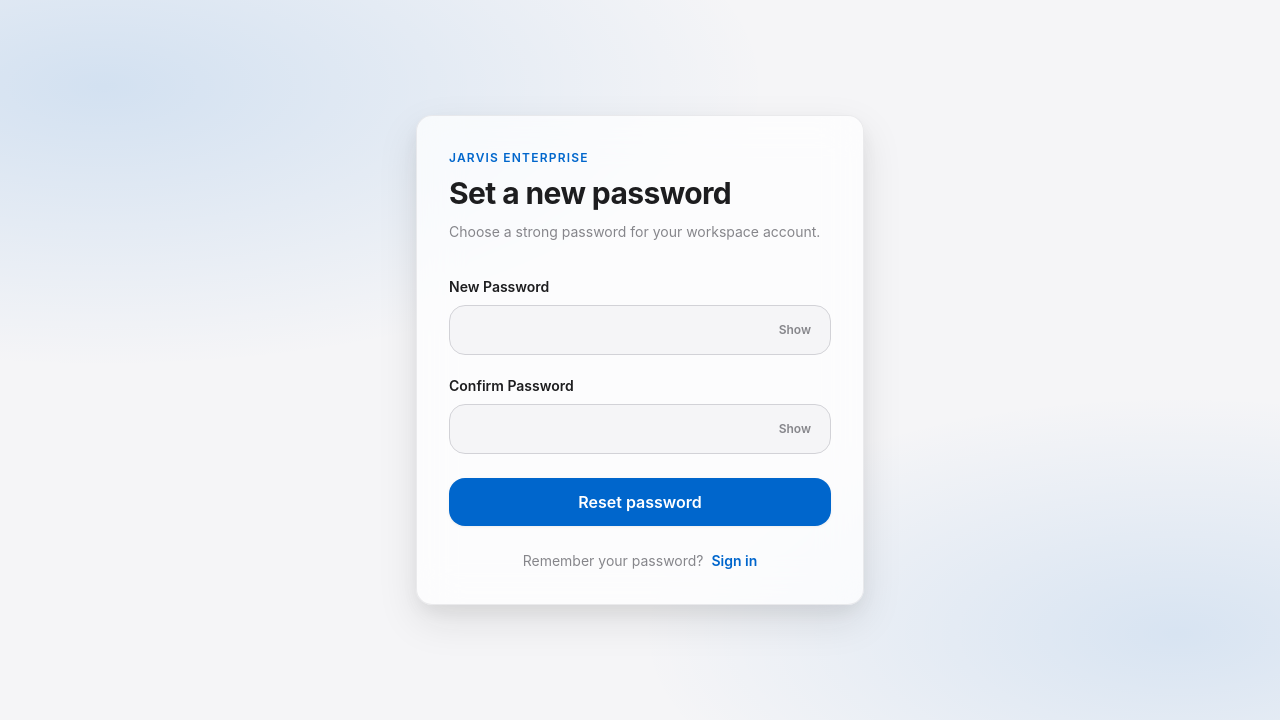
Test: ResetPasswordComponent › shows validation messages for empty fields
Click the submit button. click: (640, 502)
box: [449,478,831,526]
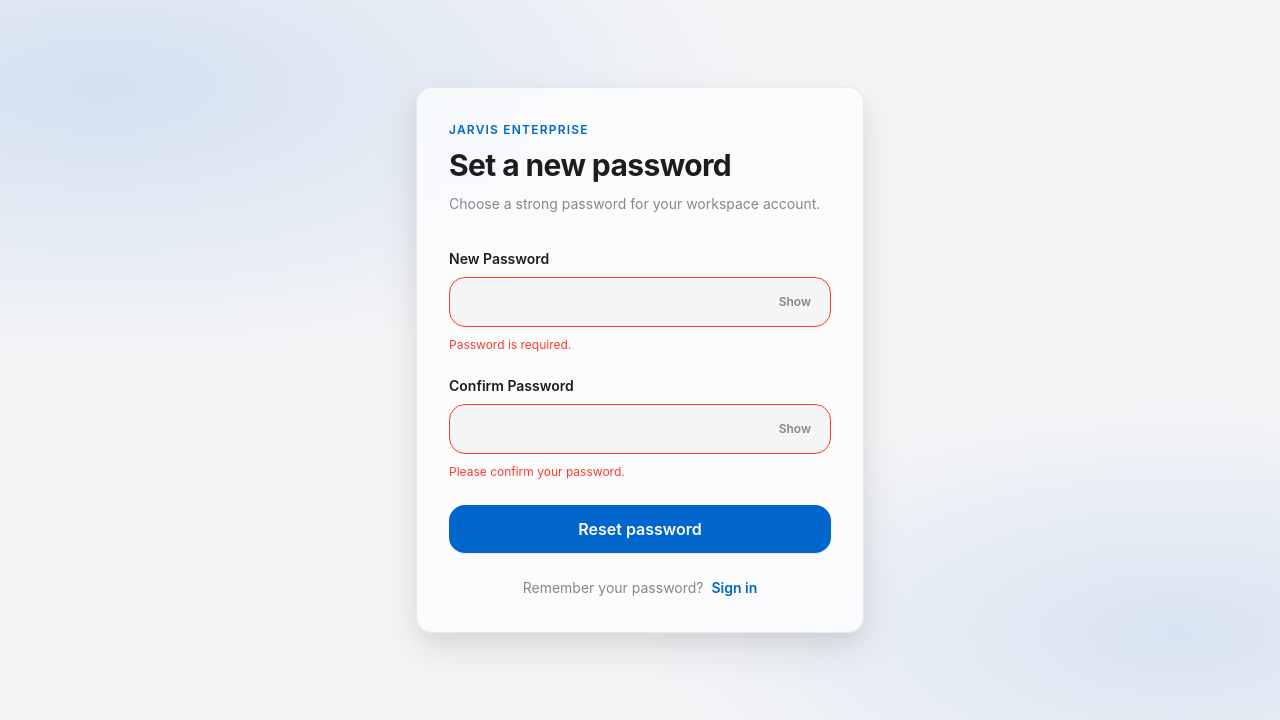
Expected: the message "Password is required." is shown, [449,337,571,352]
Expected: the message "Please confirm your password." is shown, [449,464,625,478]
